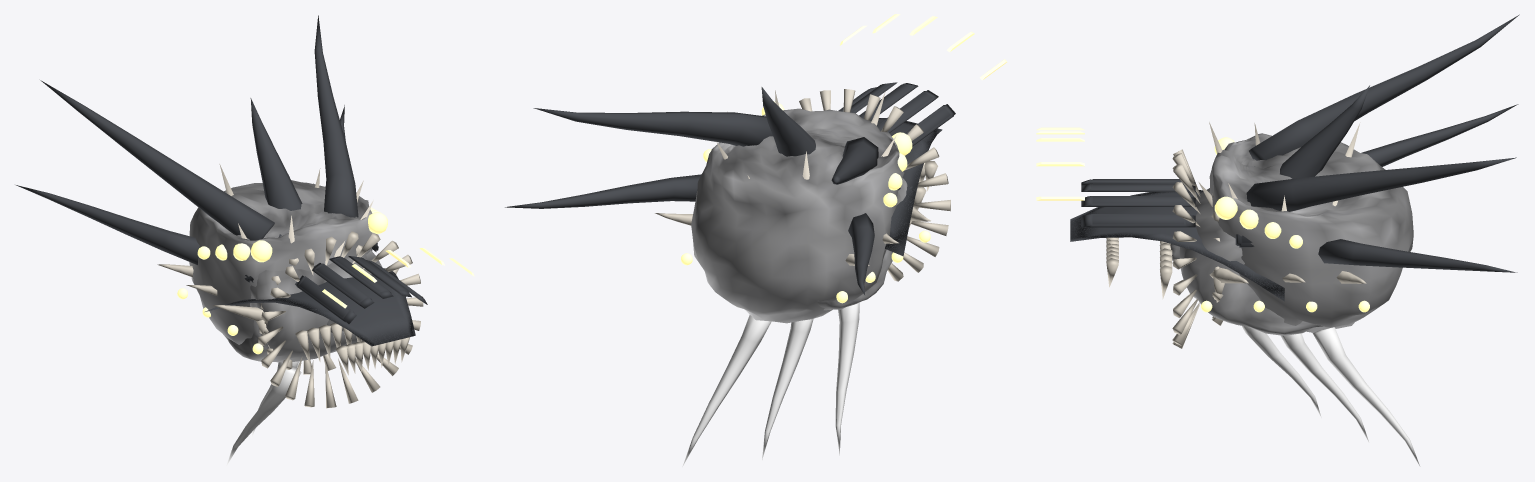
File: devourer.glb
3 renders of one model, left to right at view 1: azimuth 30°, elevation 25°; view 2: azimuth 150°, elevation 25°; view 3: azimuth 270°, elevation 25°, orthographic. The views are drawn at different scales.
Visible parts, largest first — view 1: devourer_head, devourer_seg, devourer_petal, devourer_tail, devourer_node; view 2: devourer_head, devourer_seg, devourer_tail, devourer_petal; view 3: devourer_head, devourer_seg, devourer_tail, devourer_petal, devourer_node.
Part boxes in pixels (bbox=[...]): devourer_head: bbox=[16, 15, 423, 408]; devourer_seg: bbox=[157, 98, 398, 466]; devourer_petal: bbox=[205, 268, 415, 375]; devourer_tail: bbox=[295, 248, 474, 333]; devourer_node: bbox=[219, 164, 373, 257]; devourer_head: bbox=[505, 89, 950, 323]; devourer_seg: bbox=[655, 87, 930, 466]; devourer_tail: bbox=[838, 14, 1006, 146]; devourer_petal: bbox=[871, 118, 942, 256]; devourer_head: bbox=[1172, 14, 1519, 348]; devourer_seg: bbox=[1179, 85, 1420, 466]; devourer_tail: bbox=[1036, 127, 1195, 260]; devourer_petal: bbox=[1070, 190, 1284, 302]; devourer_node: bbox=[1198, 122, 1360, 211].
Size of the model in its own units: 2.05 by 2.03 by 2.49.
